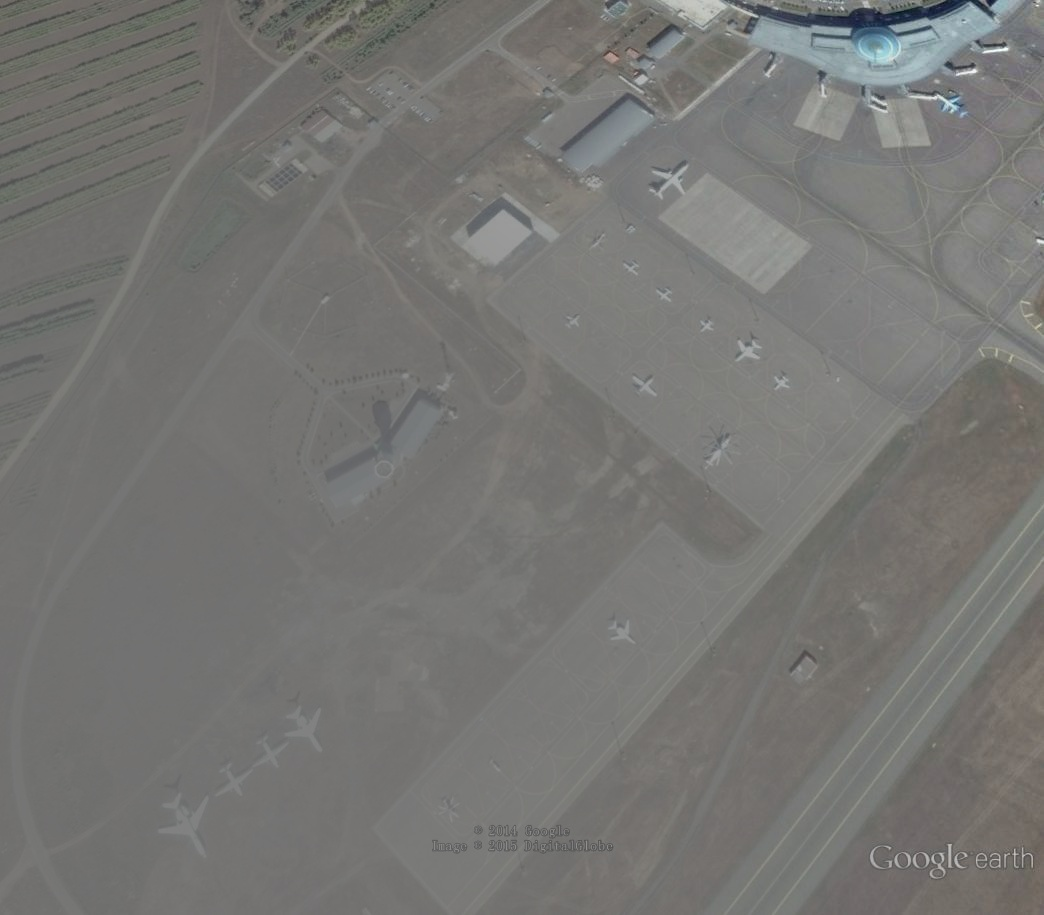aircraft: (156, 791, 212, 861), (282, 700, 328, 756), (648, 160, 694, 202), (251, 730, 292, 771), (215, 757, 254, 799), (934, 90, 971, 121), (607, 615, 641, 648), (733, 332, 765, 366), (628, 373, 661, 402), (773, 372, 793, 393), (654, 285, 674, 305), (620, 258, 641, 277), (698, 317, 718, 335), (564, 313, 584, 331)
